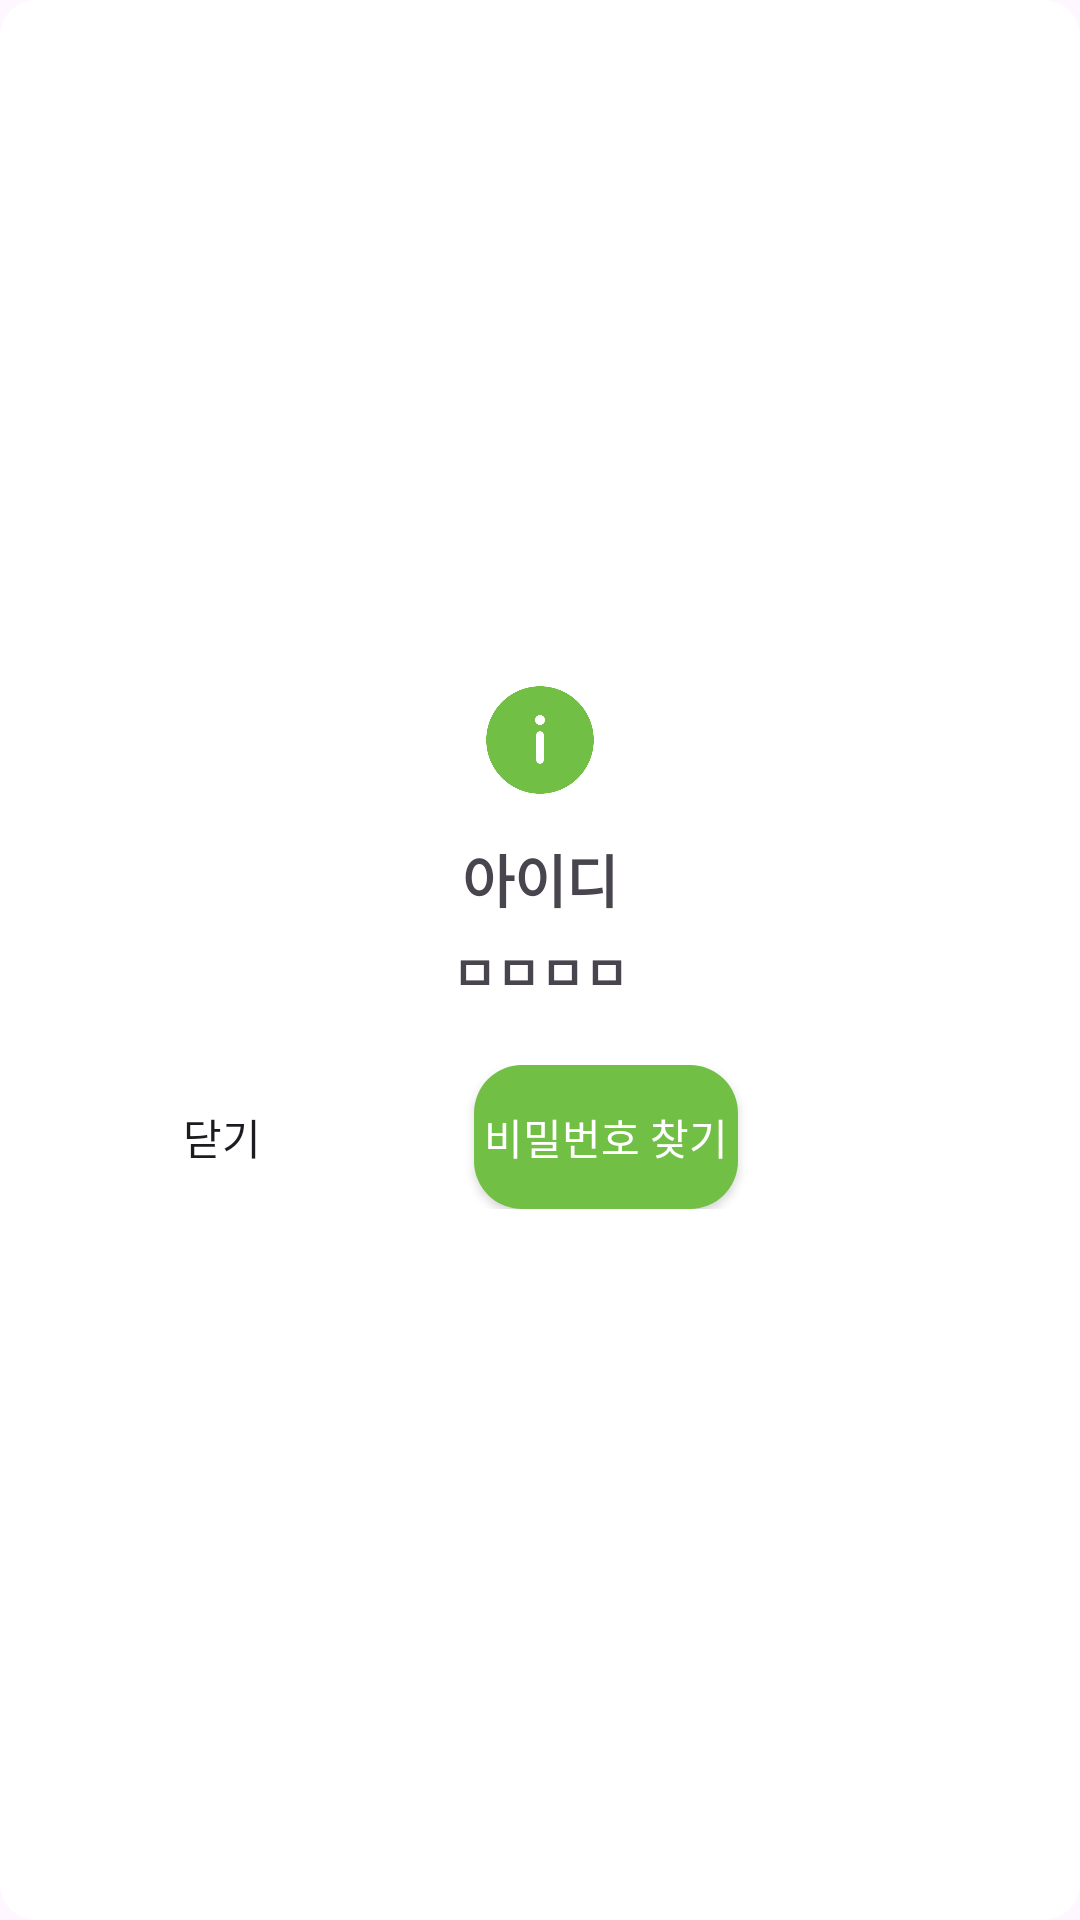

Icon bounding boxes for this 1080 × 1920 phone screenshot, format (x1,y1,x2,y2):
information: (486,686,594,794)
